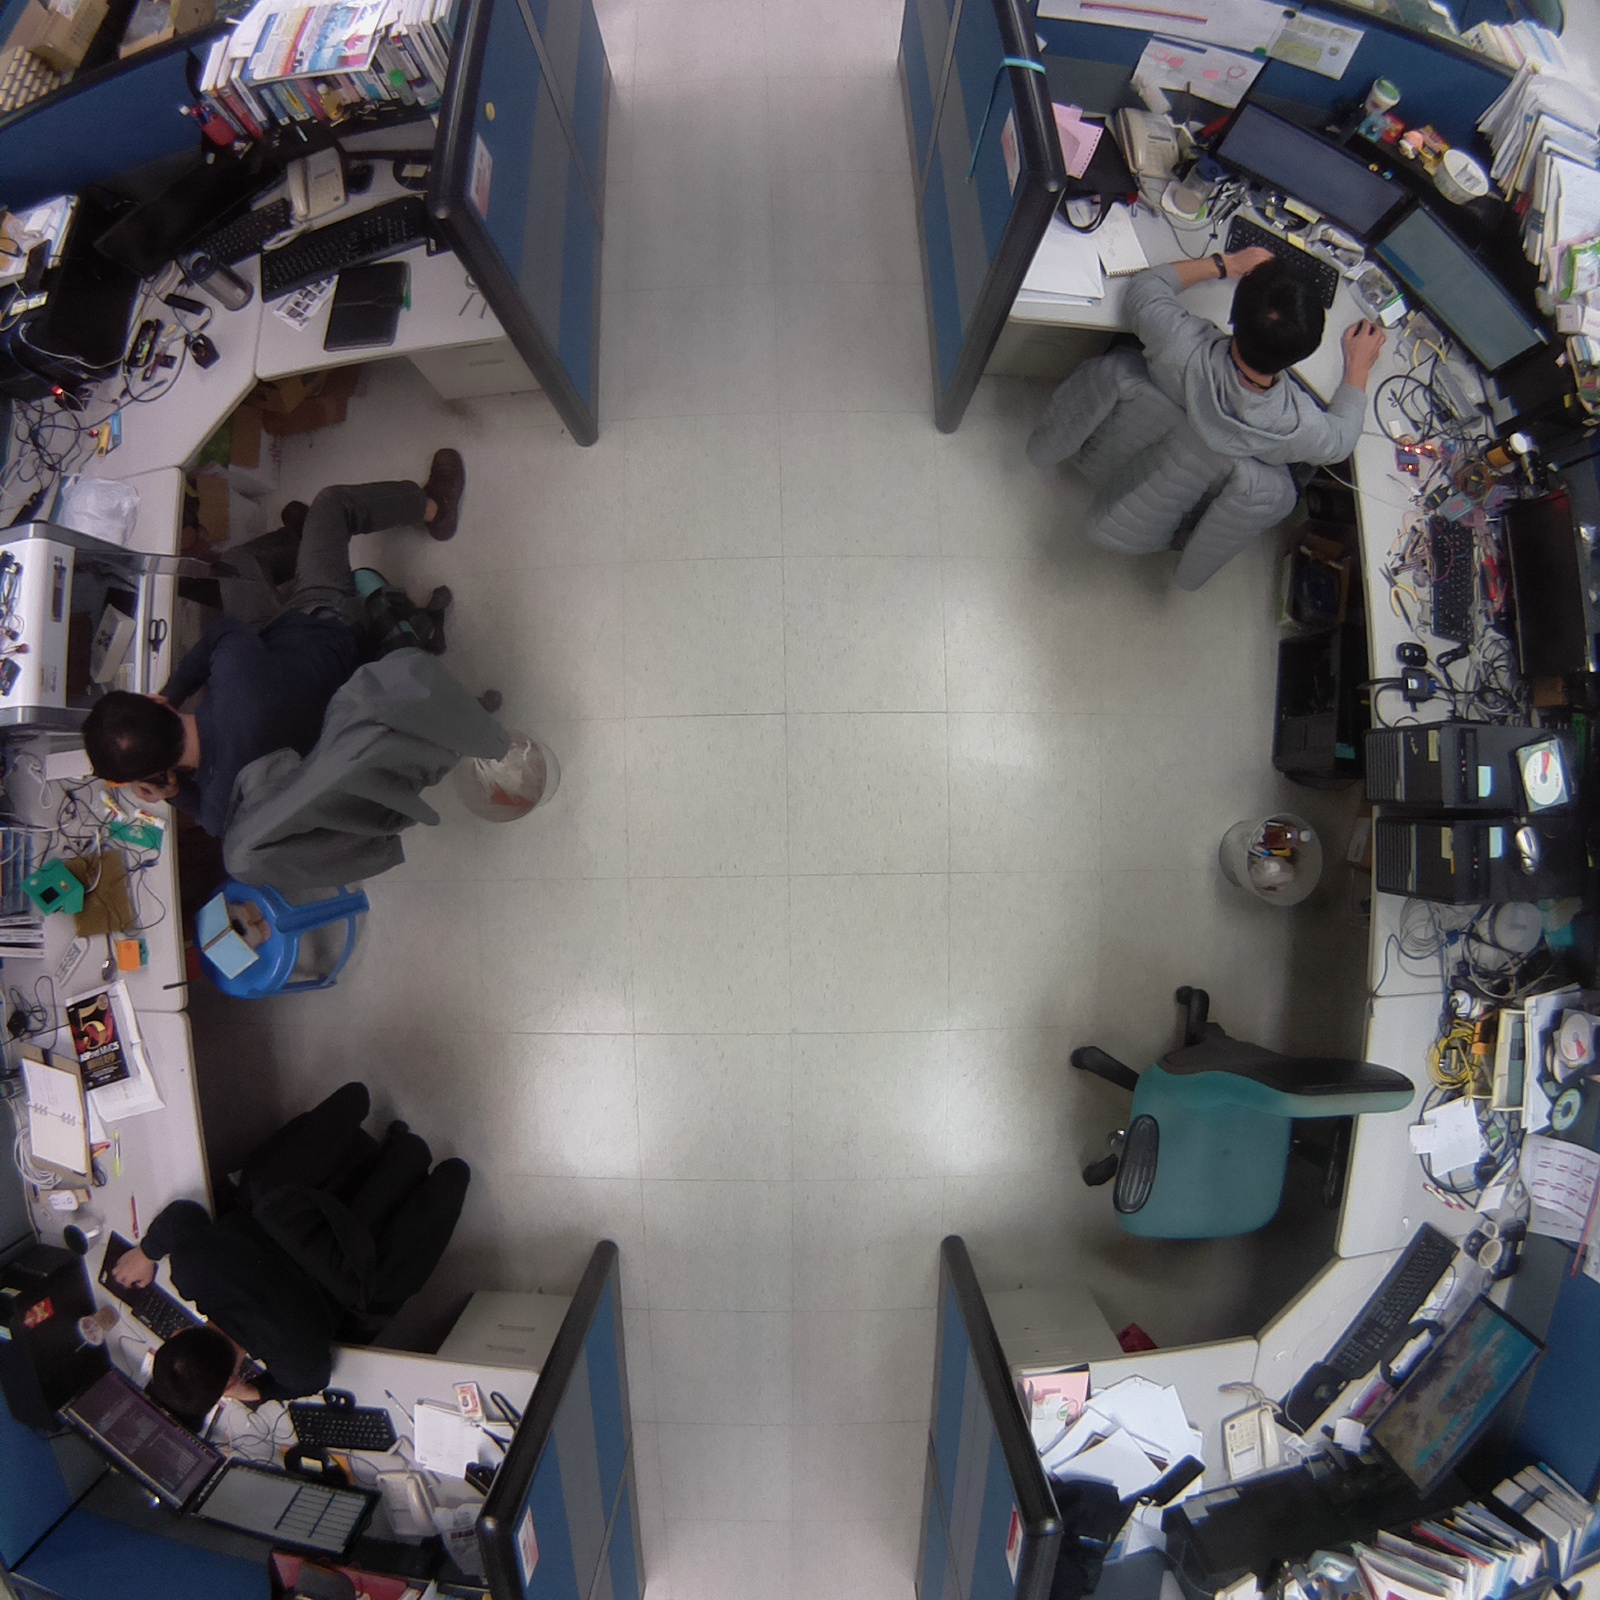chair: (1035, 968, 1427, 1268)
head: (1221, 246, 1332, 389), (76, 689, 206, 787), (142, 1319, 242, 1431)
sitting: (67, 432, 519, 899), (1001, 234, 1388, 614), (105, 1065, 486, 1438)
